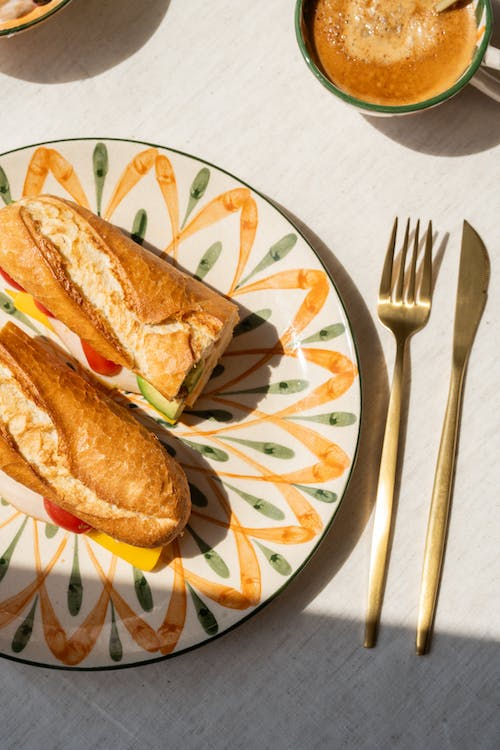knife: (414, 215, 490, 656)
